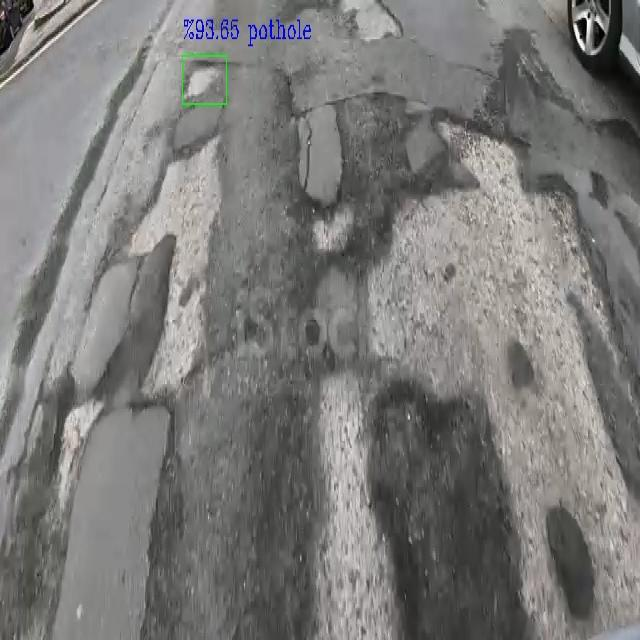pothole: (186, 58, 223, 100)
